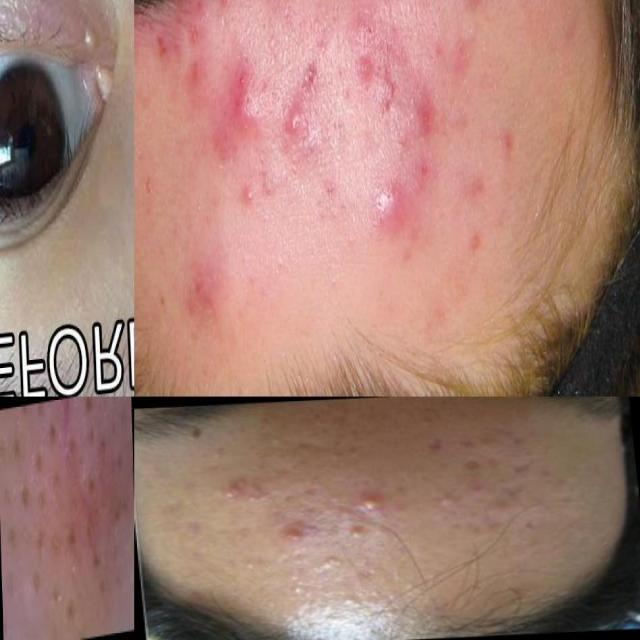Pimples: (360, 166, 418, 250), (178, 254, 226, 342), (56, 505, 90, 570), (228, 166, 272, 216), (283, 93, 318, 149), (341, 484, 397, 514), (412, 89, 442, 144), (231, 78, 258, 135), (462, 444, 498, 482), (354, 38, 380, 88), (262, 525, 320, 547), (297, 56, 325, 94), (226, 464, 254, 502), (419, 428, 452, 460), (503, 450, 541, 477), (77, 20, 100, 58), (18, 461, 32, 517), (98, 421, 112, 462)
